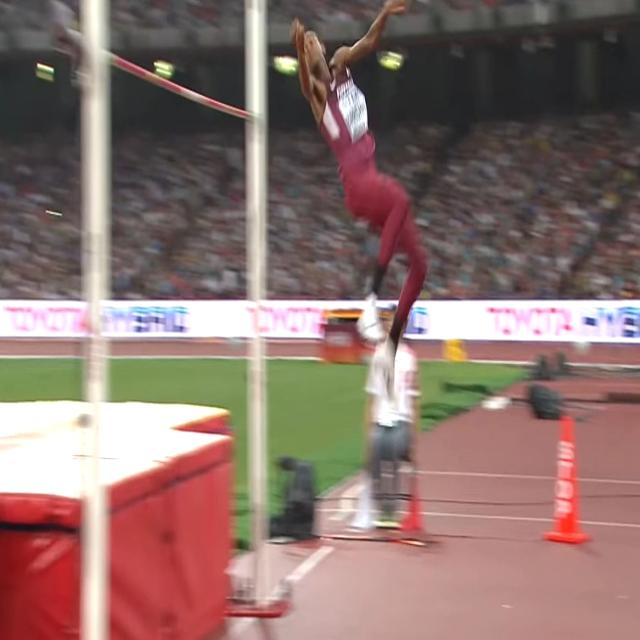jump: (295, 0, 426, 405)
